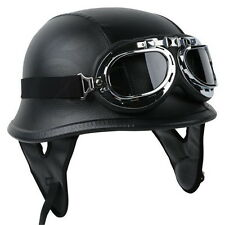with_helmet: (5, 6, 220, 218)
